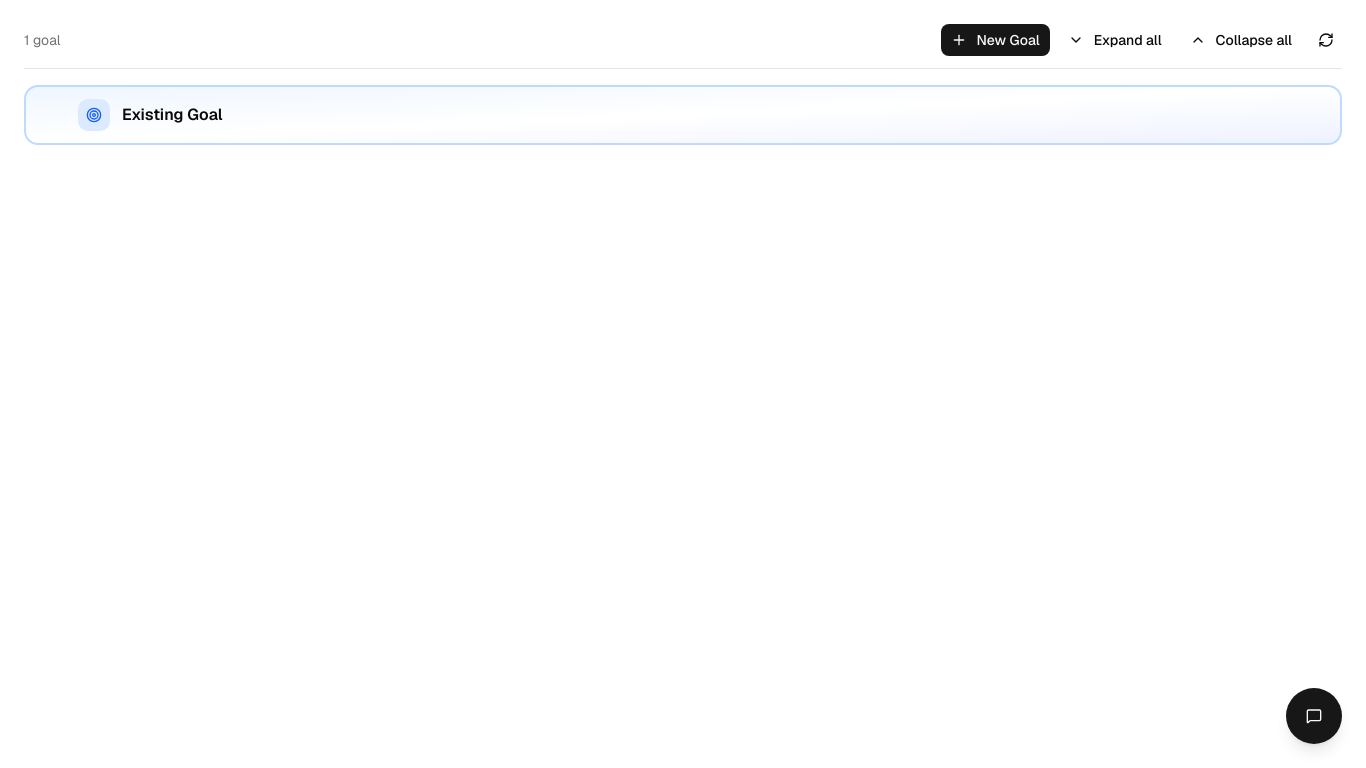
Test: AppLayout › add child dialog integration › opens dialog with null parent when New Goal toolbar button is clicked
Note: Click the New Goal button in the toolbar
Click the button with test id "goal-tree-view-new-goal" at (995, 40), box [940,24,1050,56]
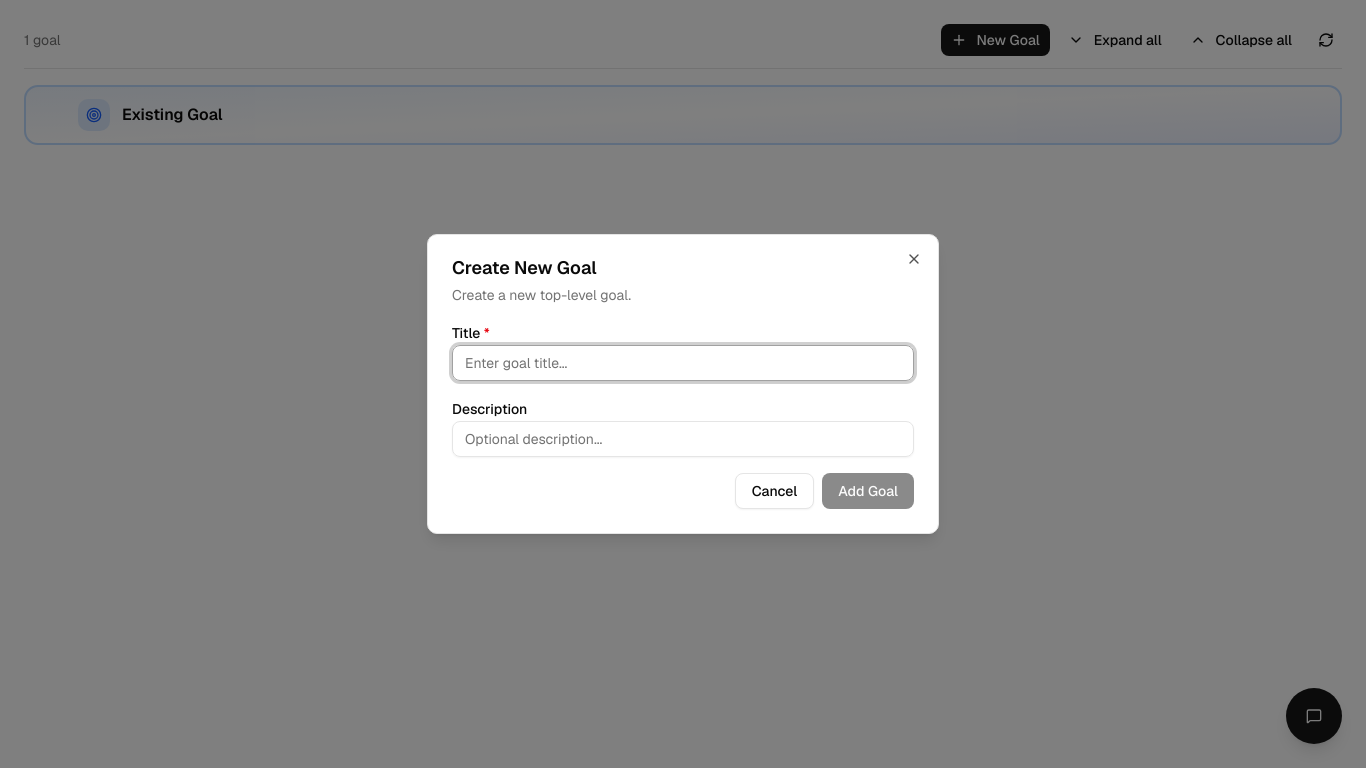
Expected: the dialog with test id "add-child-dialog" is shown, [427,234,939,534]
Expected: the heading with test id "add-child-dialog-title" reads "Create New Goal", [452,256,596,279]
Expected: the text with test id "add-child-dialog-description" reads "Create a new top-level goal.", [452,286,631,304]
